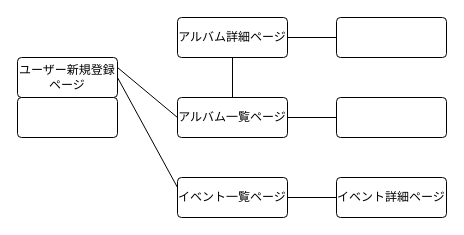
Image size: 464x235. Some labels were removed from this diagram. Each missing label, with the box of its shape:
アルバム投稿ページ: (336, 96, 446, 138)
アルバム編集ページ: (336, 16, 446, 58)
ユーザーログインページ: (16, 96, 118, 138)
